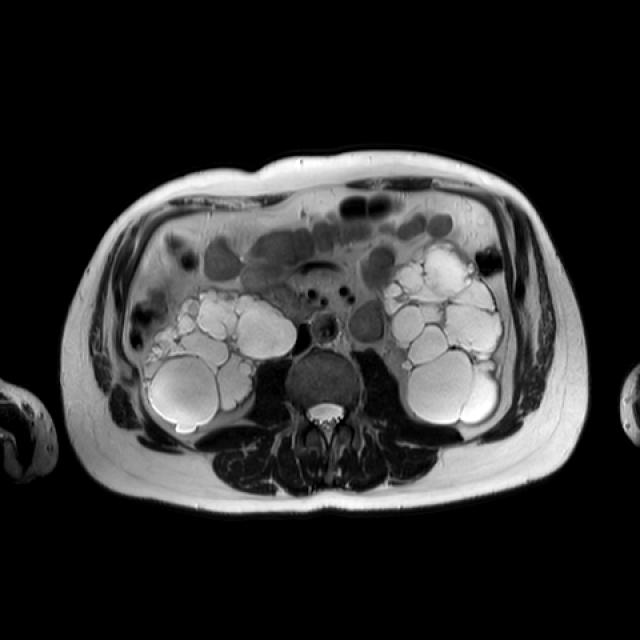sag: (142, 286, 299, 435)
sol: (384, 238, 504, 426)
